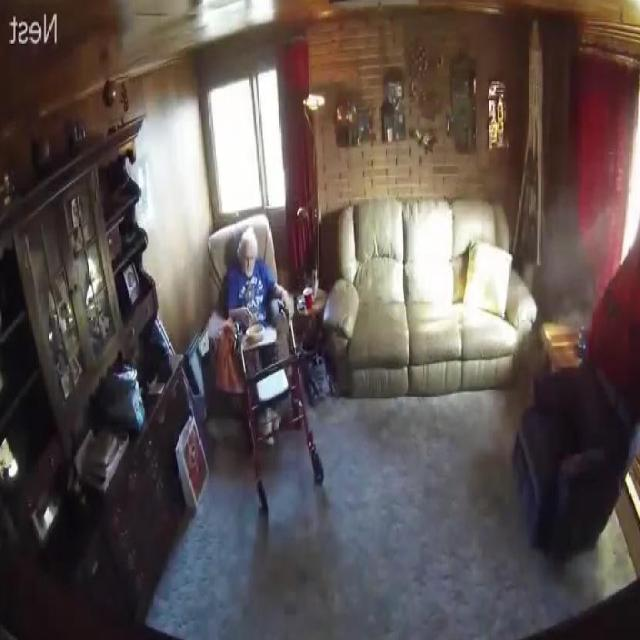fire: (550, 294, 596, 331)
